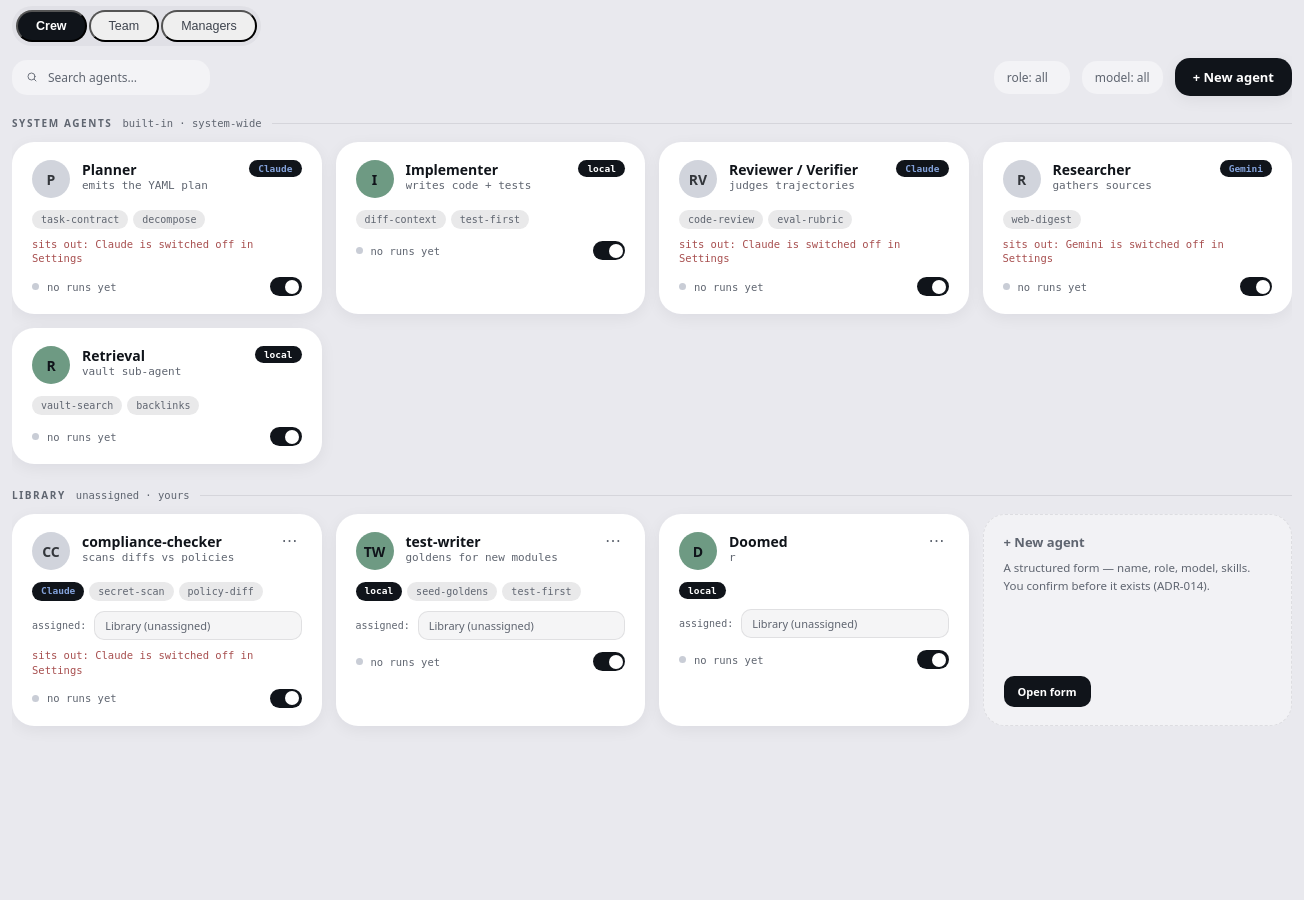
Test case: Agents — permanent agent delete is two-step (P9) › a single click on "Delete agent" ARMS the confirm — nothing is removed until confirm
Click the button named "actions for Doomed" at (936, 540), box 924,532 -> 948,548
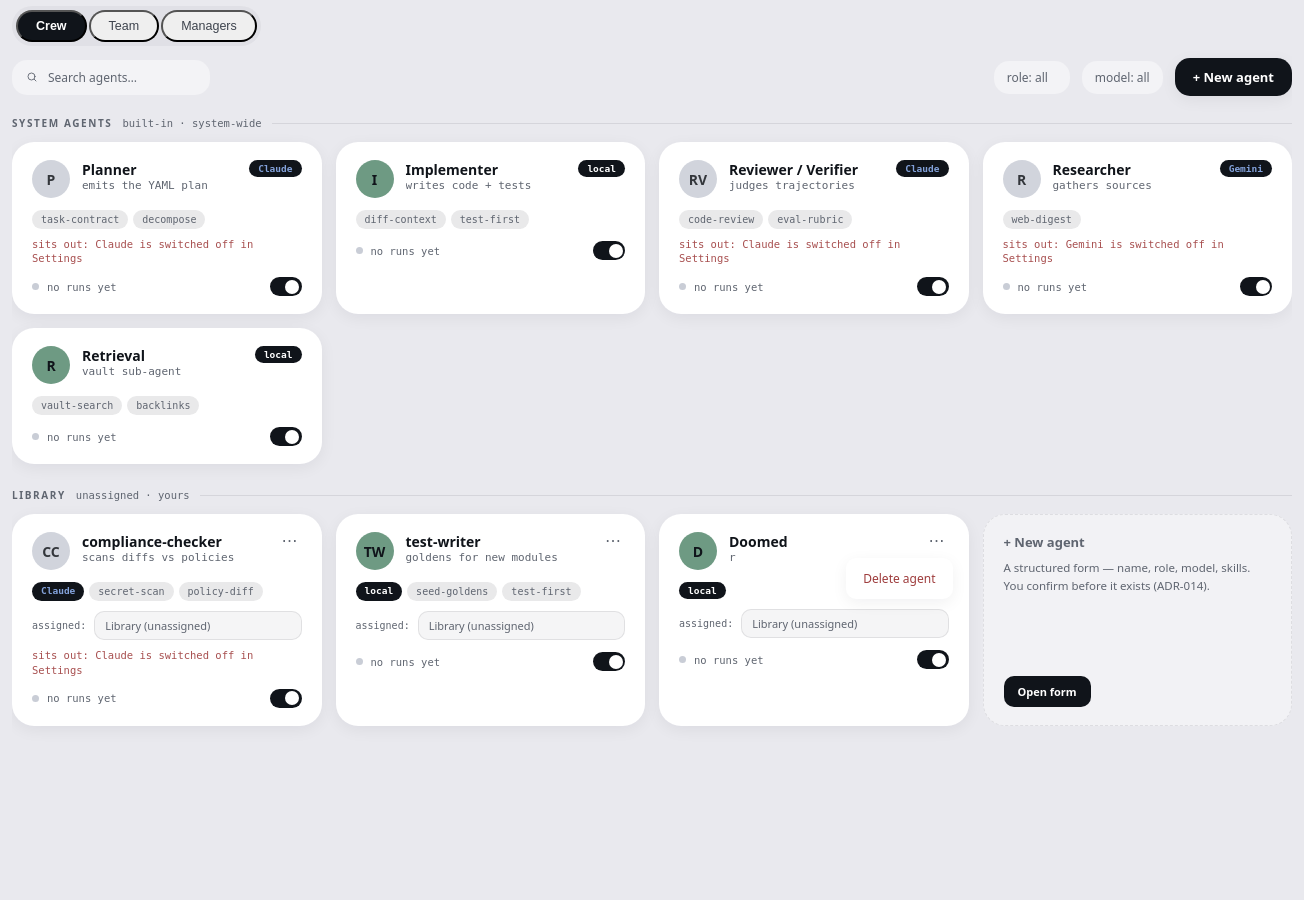
Click the button with aria-label "Delete Doomed" at (899, 579), box 851,563 -> 948,594
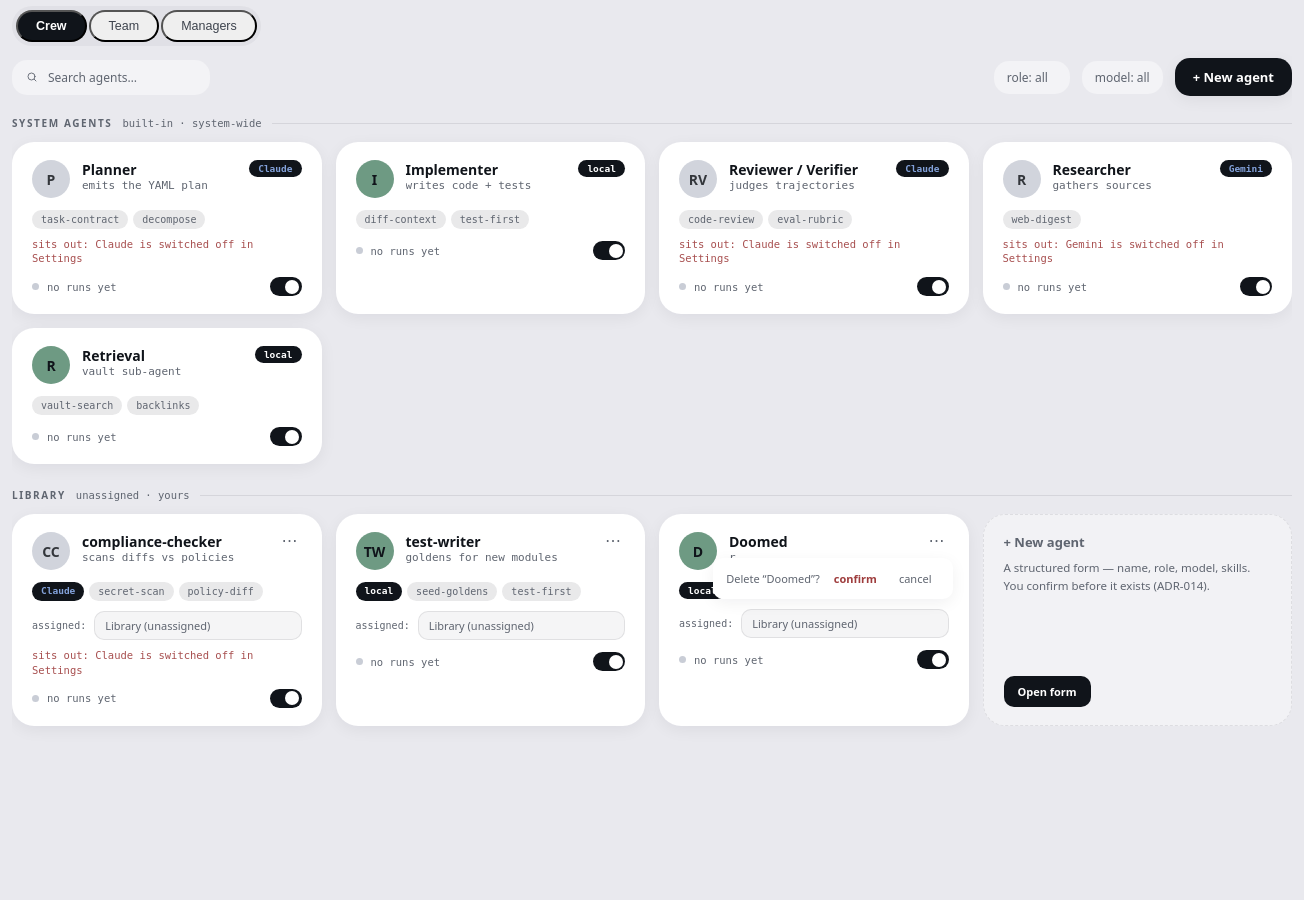
Check: the text "Doomed" is shown, box 729,532 -> 788,551
The explicit confirm performs the durable removal.
Click the button with aria-label "confirm delete Doomed" at (855, 579), box 826,567 -> 885,590
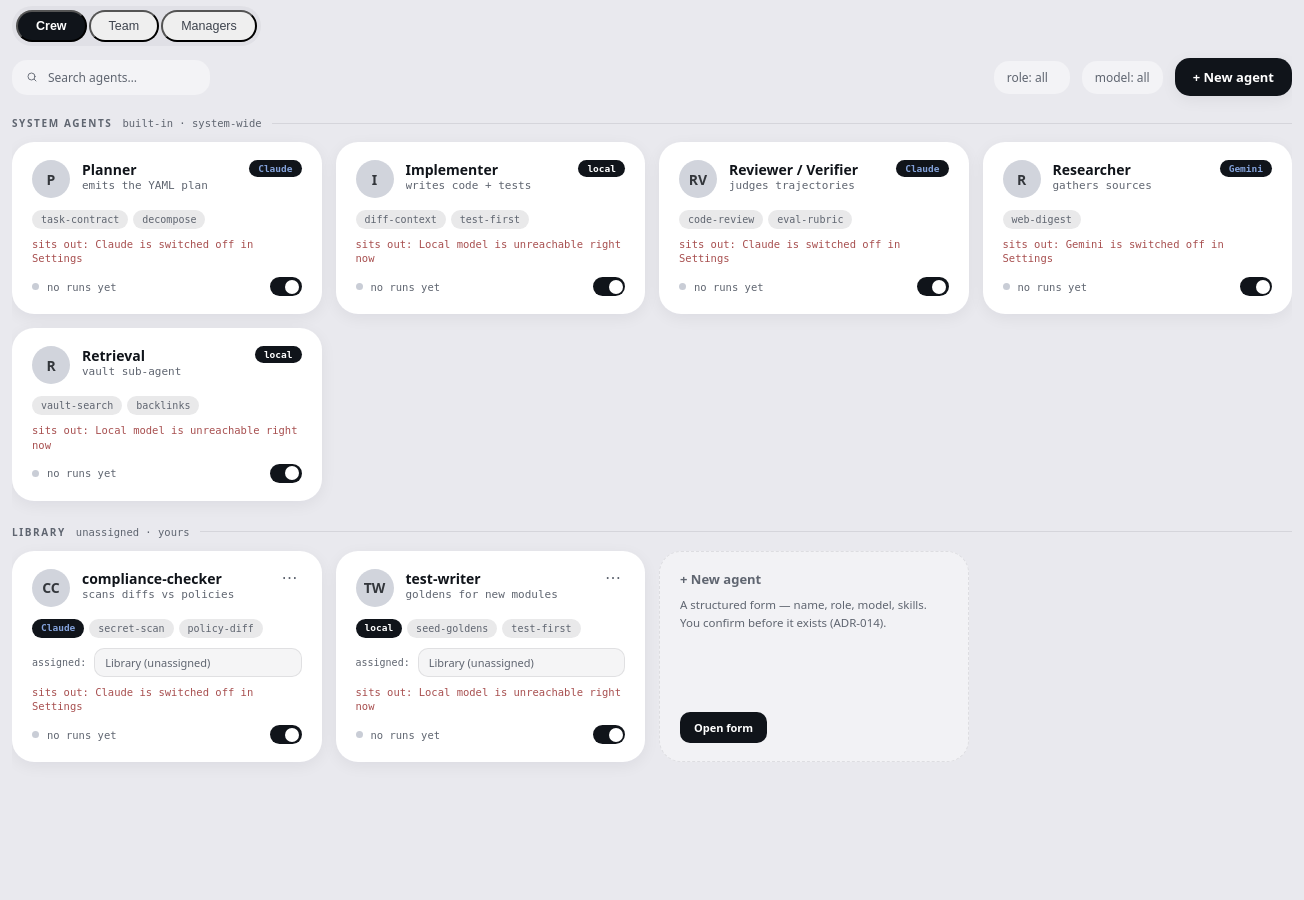
Check: the link "Doomed" is gone
